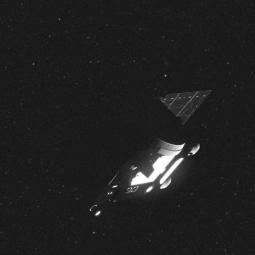proba_3_csc: (71, 83, 215, 221)
